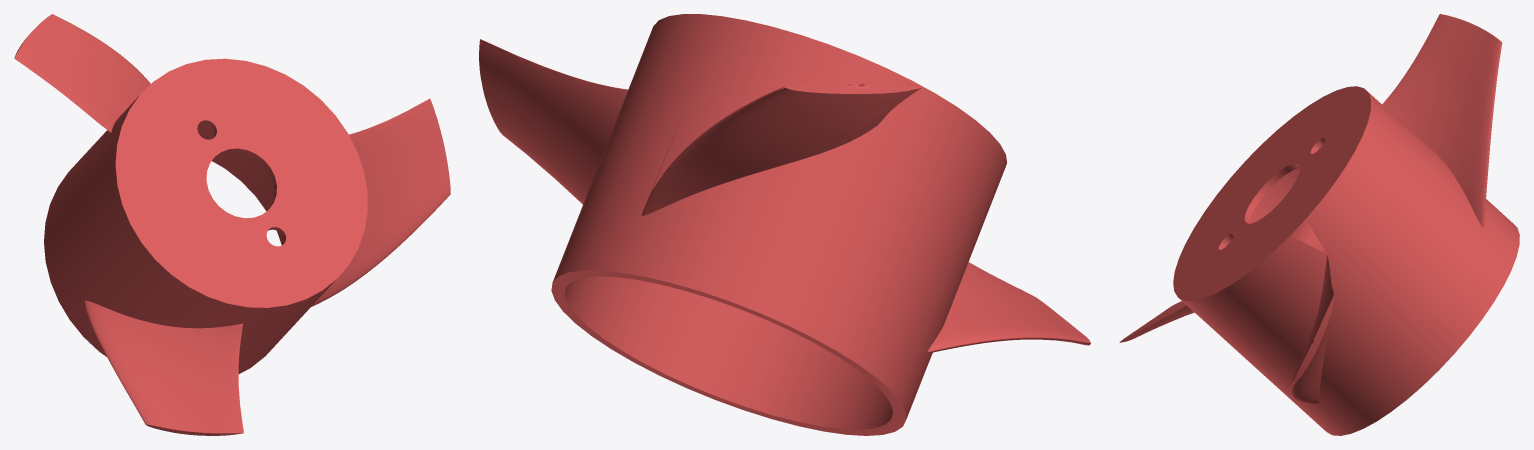
The model's file is HLP.glb.
3 renders of one model, left to right at view 1: azimuth 30°, elevation 25°; view 2: azimuth 150°, elevation 25°; view 3: azimuth 270°, elevation 25°, orthographic. The views are drawn at different scales.
Visible parts, largest first — view 1: CAD_material_0; view 2: CAD_material_0; view 3: CAD_material_0.
Part boxes in pixels (bbox=[...]): CAD_material_0: bbox=[14, 14, 450, 435]; CAD_material_0: bbox=[479, 14, 1090, 435]; CAD_material_0: bbox=[1119, 14, 1519, 435].
Bounding box in the file's own units: 0.0632 × 0.0532 × 0.0572.
